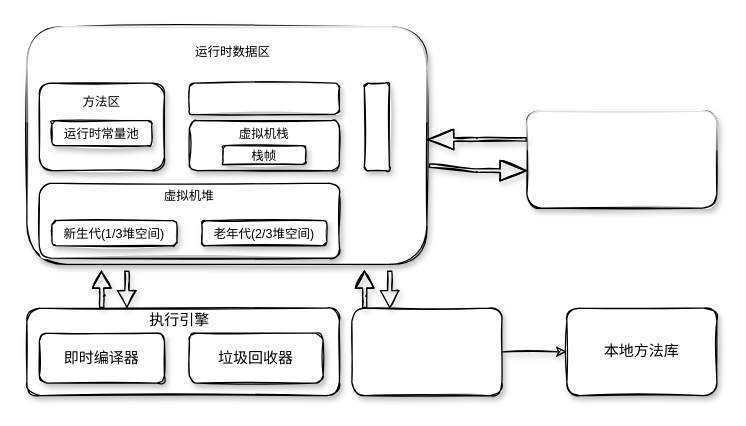
This 746x426 diagram has some shape labels left out. The shapes that lost their labels are listed below. From the top down, each one's centre as x and y in pixels, then its label:
At [265,100]: "本地方法区".
At [377,128]: "程序计数器".
At [622,161]: "类加载器子系统".
At [427,353]: "本地接口库".
